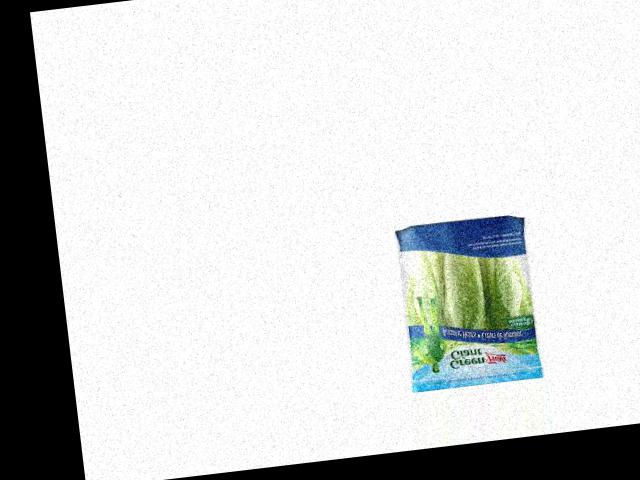lettuce: (388, 211, 545, 387)
